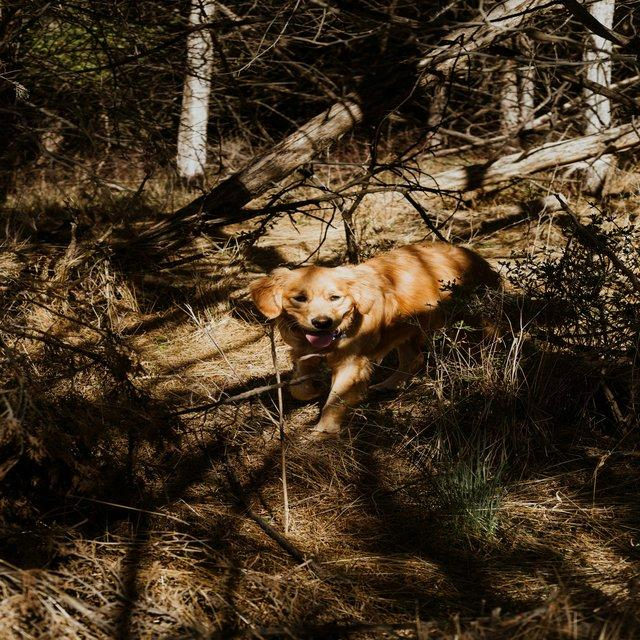retriever: (248, 239, 504, 439)
